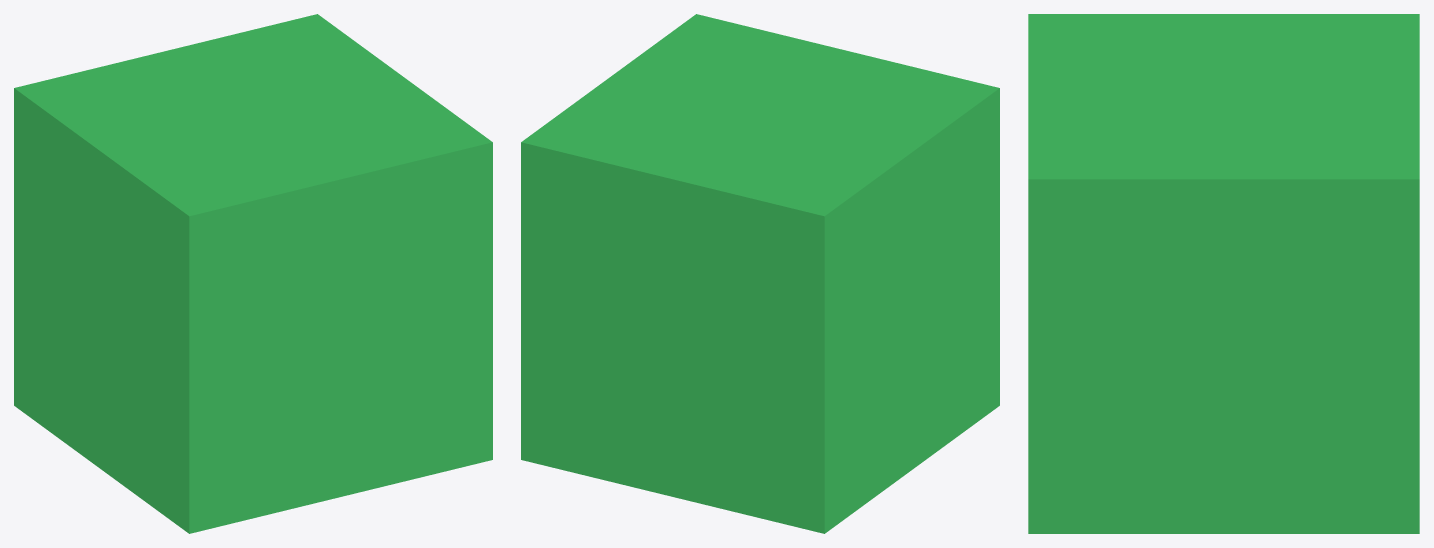
File: cube-globe4.gltf
The picture shows the model from 3 angles, left to right: view 1: azimuth 30°, elevation 25°; view 2: azimuth 150°, elevation 25°; view 3: azimuth 270°, elevation 25°; orthographic projection. The views are drawn at different scales.
Visible parts, largest first — view 1: Box; view 2: Box; view 3: Box.
Part boxes in pixels (x1,y1,x2,y2): Box: [14, 14, 492, 533]; Box: [521, 14, 999, 533]; Box: [1028, 14, 1419, 533].
Size of the model in its own units: 5 by 5.01 by 5.
